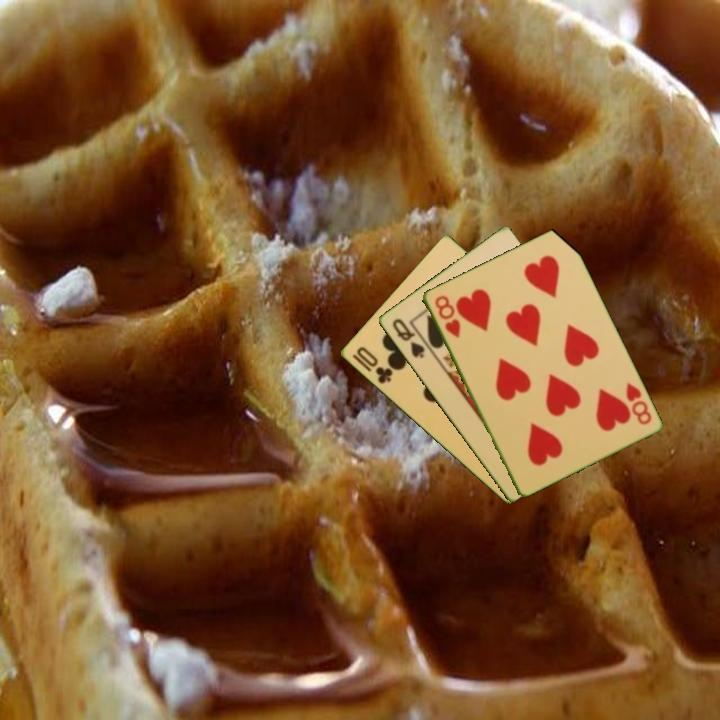10c: (352, 343, 395, 387)
8h: (431, 292, 463, 341), (622, 379, 654, 428)
Qs: (388, 315, 427, 361)
